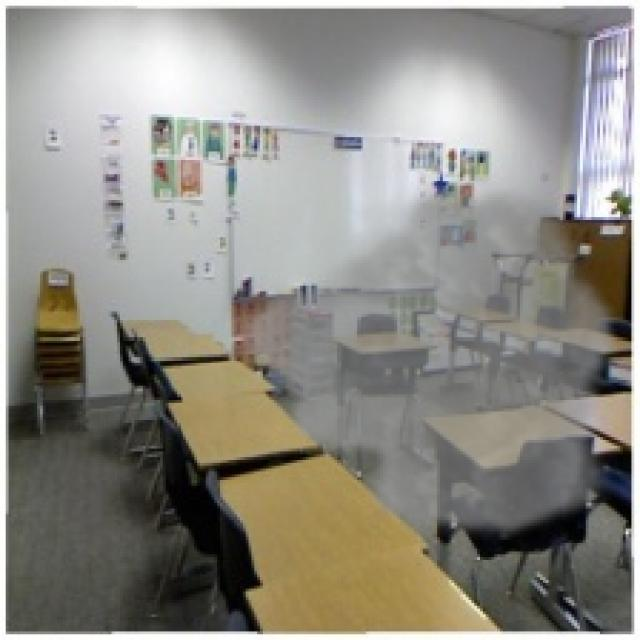smoke: (231, 177, 620, 543)
